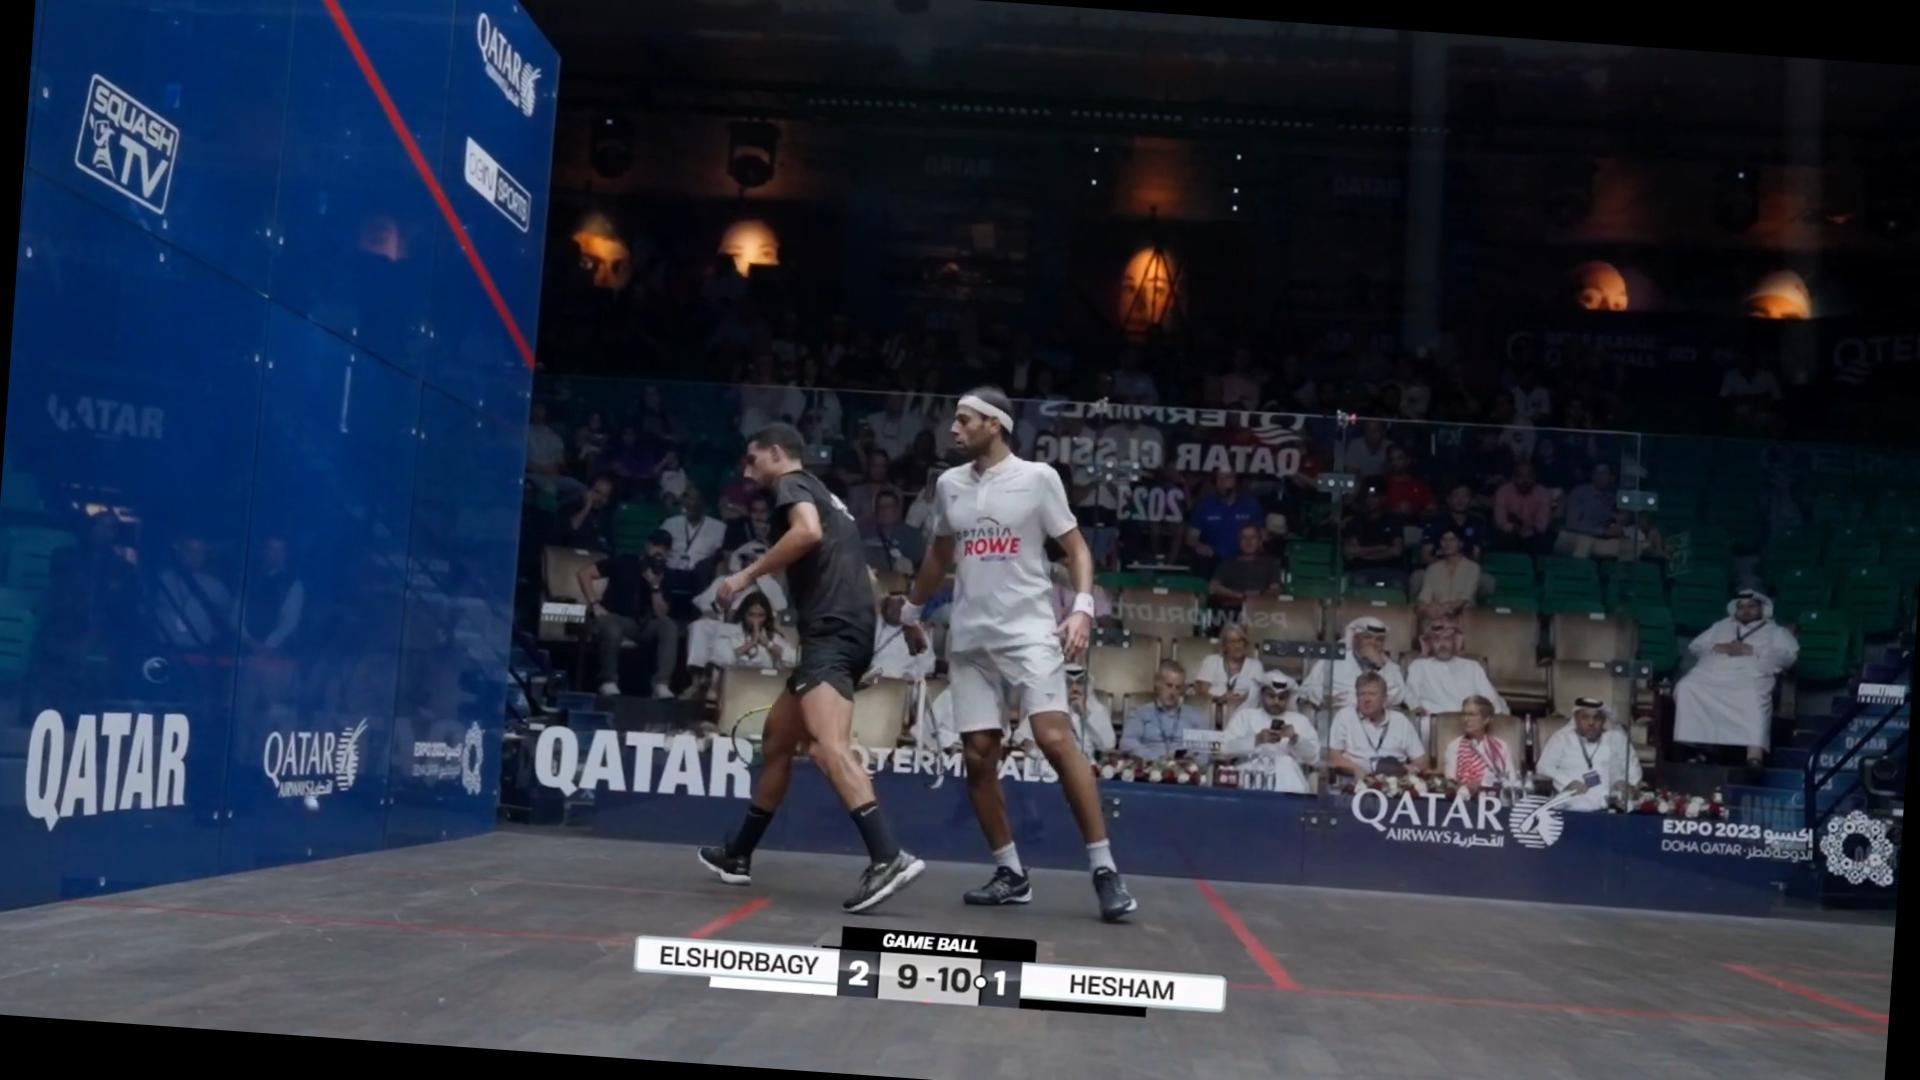Squash-Ball: (295, 782, 328, 824)
